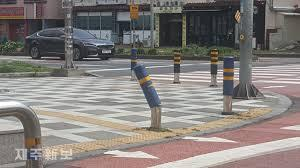Animal: (136, 55, 165, 129), (218, 52, 236, 111), (210, 48, 222, 91), (121, 46, 137, 74), (170, 46, 183, 78)
